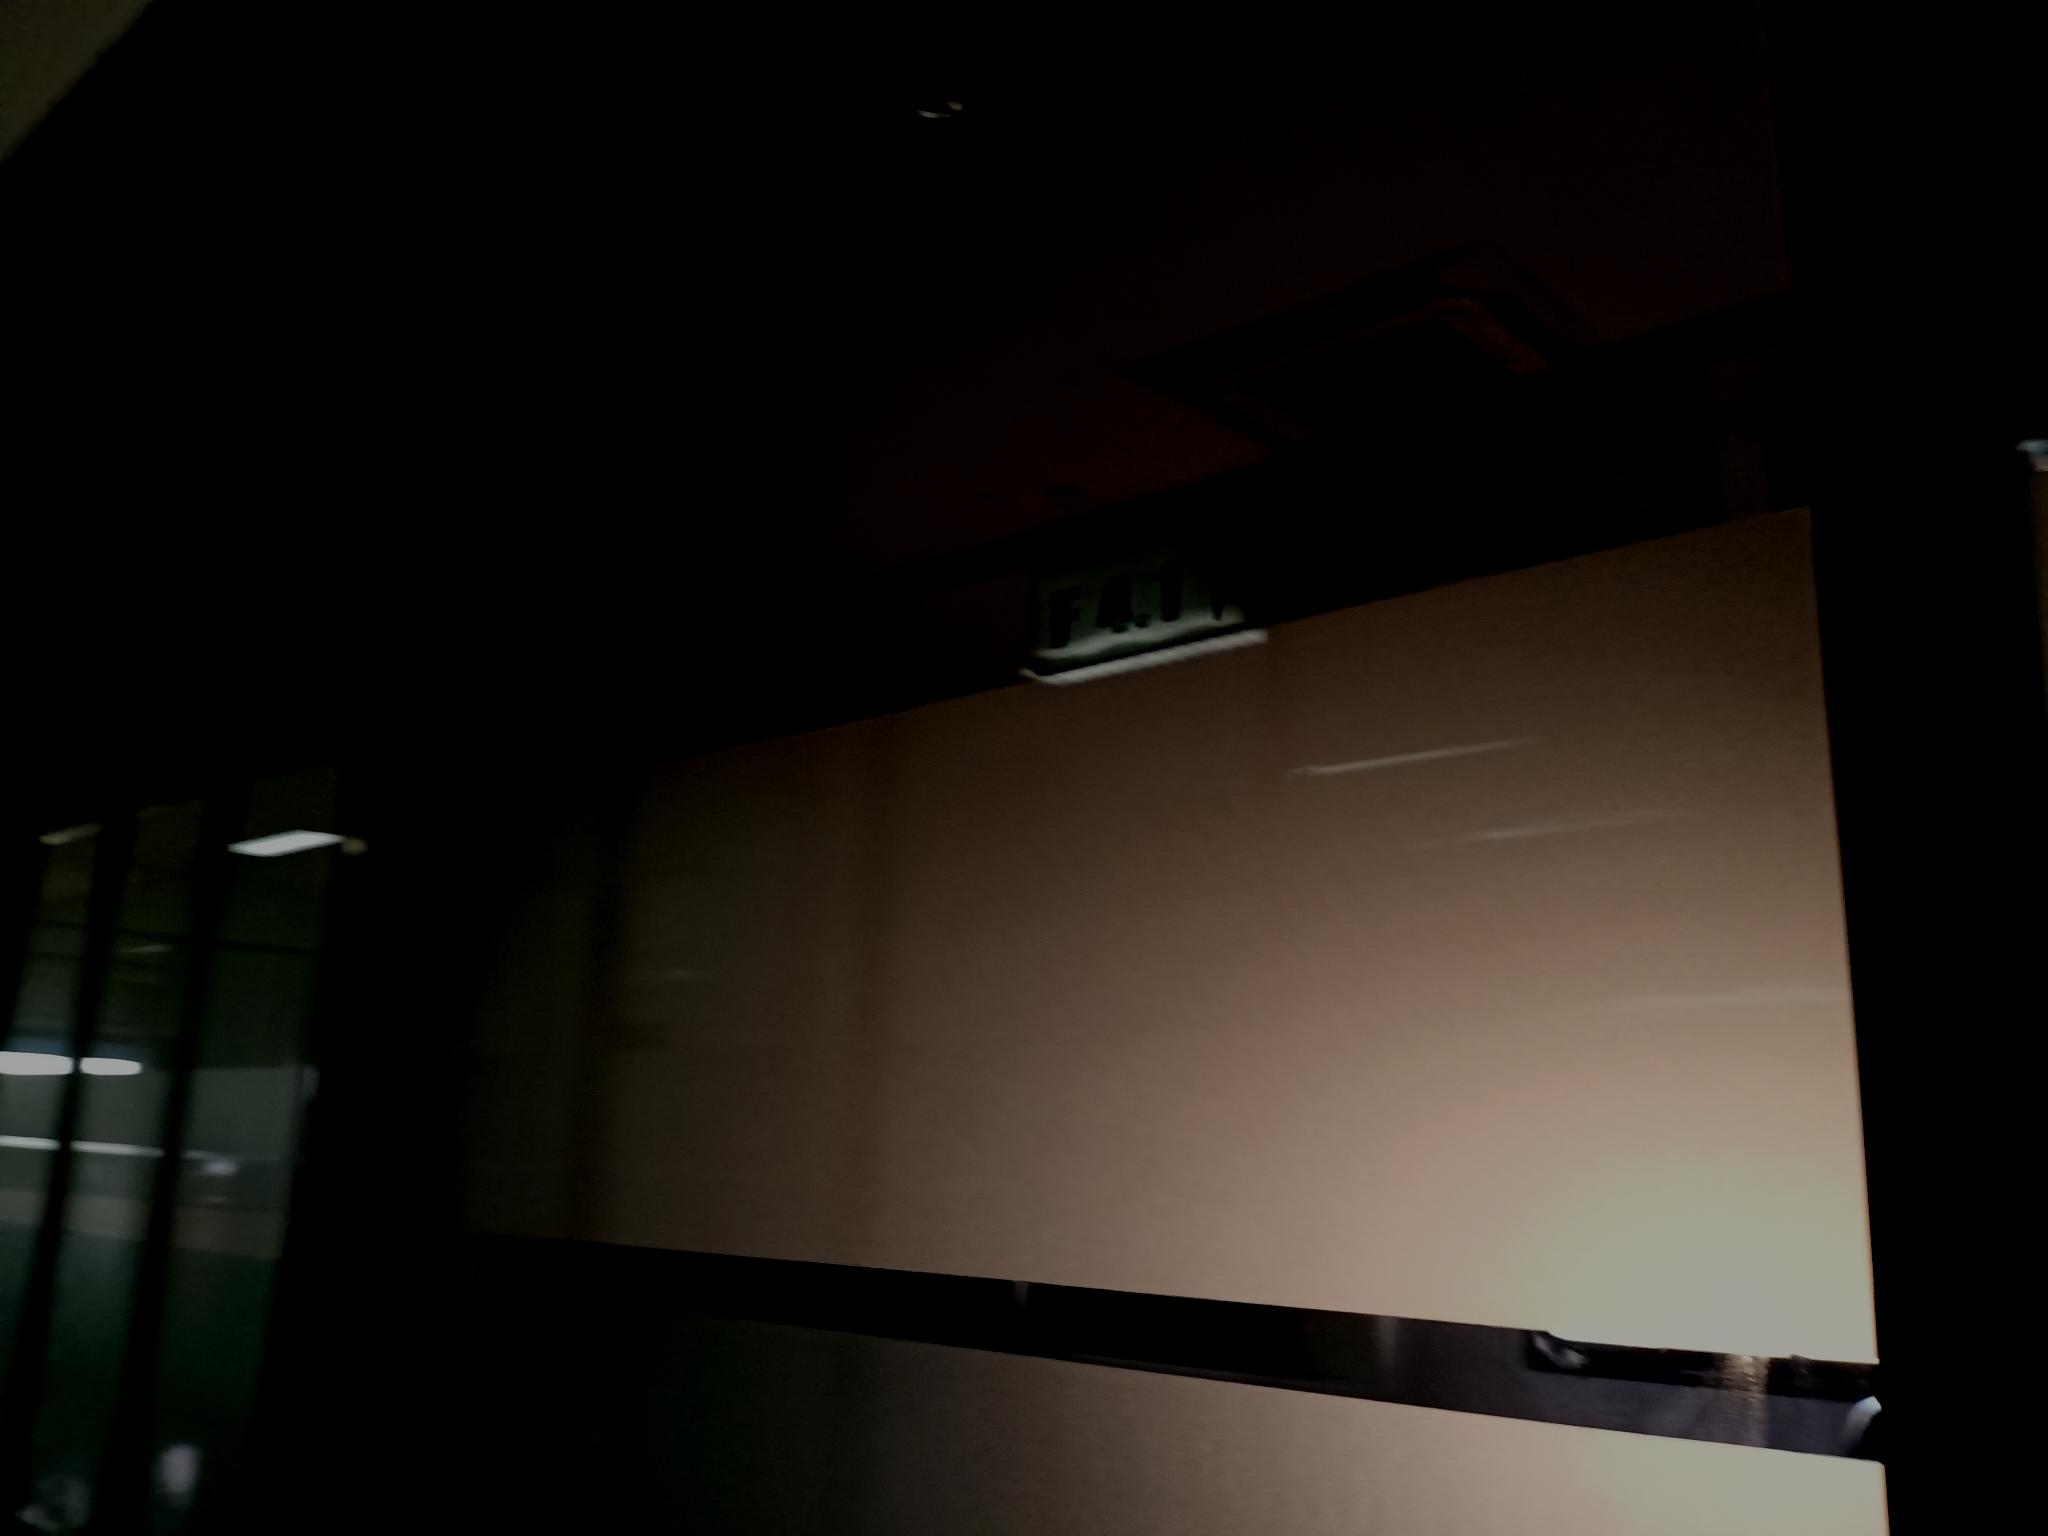plate: (1032, 334, 1711, 681)
